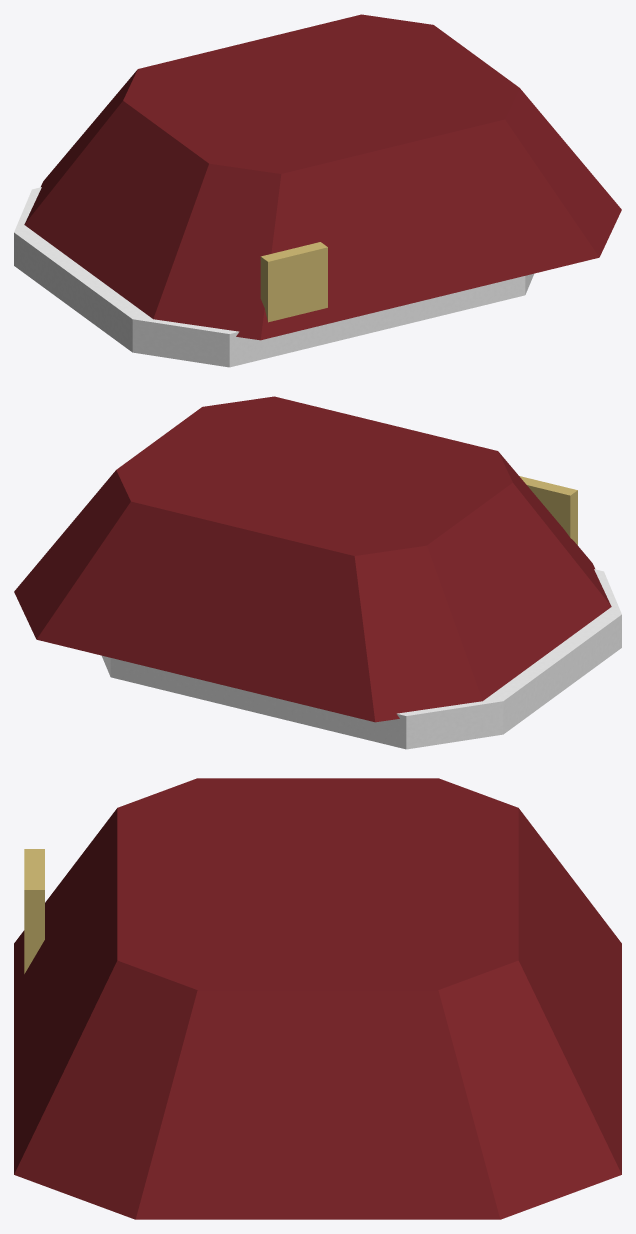
The model's file is beret.glb.
3 views of the same model, one above another, from view 1: azimuth 30°, elevation 25°; view 2: azimuth 150°, elevation 25°; view 3: azimuth 270°, elevation 25° (orthographic). The views are drawn at different scales.
Visible parts, largest first — view 1: Beret.002; view 2: Beret.002; view 3: Beret.002.
Part boxes in pixels (x1,y1,x2,y2): Beret.002: (14, 14, 621, 367); Beret.002: (14, 396, 621, 749); Beret.002: (14, 778, 621, 1219).
Bounding box in the file's own units: 0.7458 × 0.2275 × 0.5808.
Materials: 2 (1 with a texture image).
